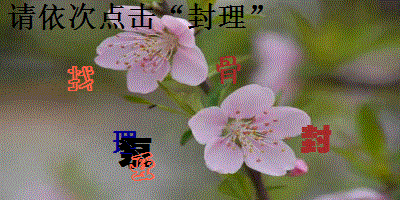text: (117, 136, 153, 170), (299, 122, 334, 156), (65, 63, 96, 93), (128, 152, 158, 182), (214, 55, 242, 86), (111, 128, 137, 156)
